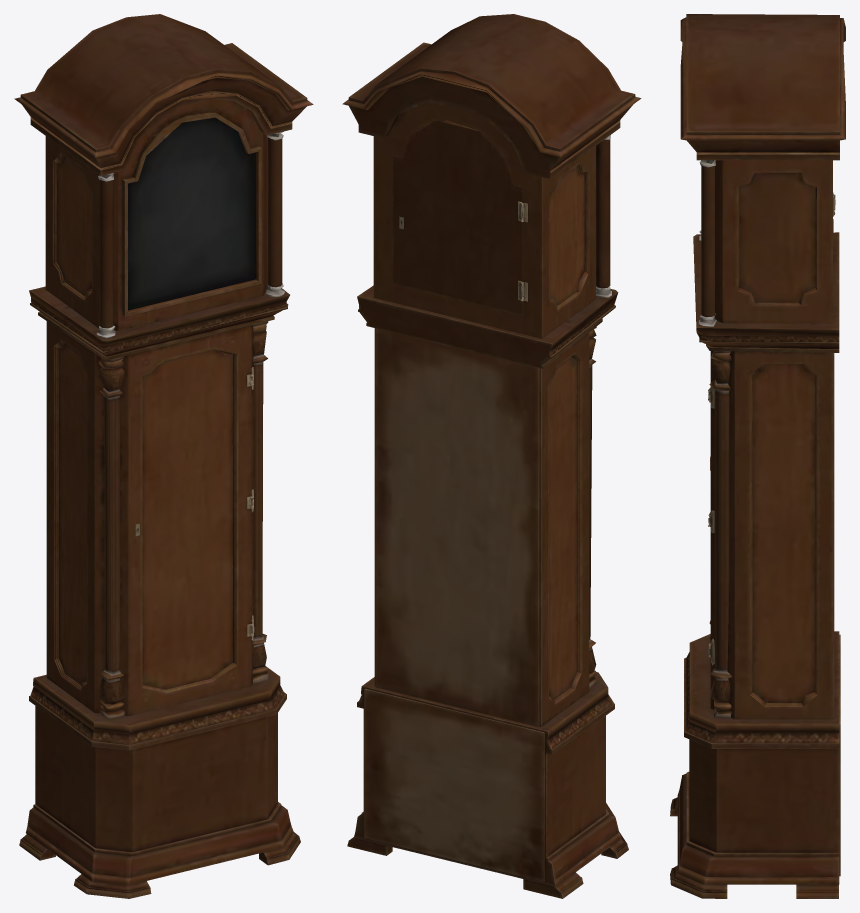
The model's file is vintage_grandfather_clock_01.lite.glb.
3 views of the same model, side by side, from view 1: azimuth 30°, elevation 25°; view 2: azimuth 150°, elevation 25°; view 3: azimuth 270°, elevation 25° (orthographic). The views are drawn at different scales.
Parts seen in each view (by area): view 1: vintage_grandfather_clock_01_Body; view 2: vintage_grandfather_clock_01_Body; view 3: vintage_grandfather_clock_01_Body.
Part boxes in pixels (bbox=[...]): vintage_grandfather_clock_01_Body: bbox=[14, 14, 313, 898]; vintage_grandfather_clock_01_Body: bbox=[342, 14, 641, 898]; vintage_grandfather_clock_01_Body: bbox=[670, 14, 845, 898].
Size of the model in its own units: 0.6255 by 2.19 by 0.4265.
Materials: 2 (2 with a texture image).
